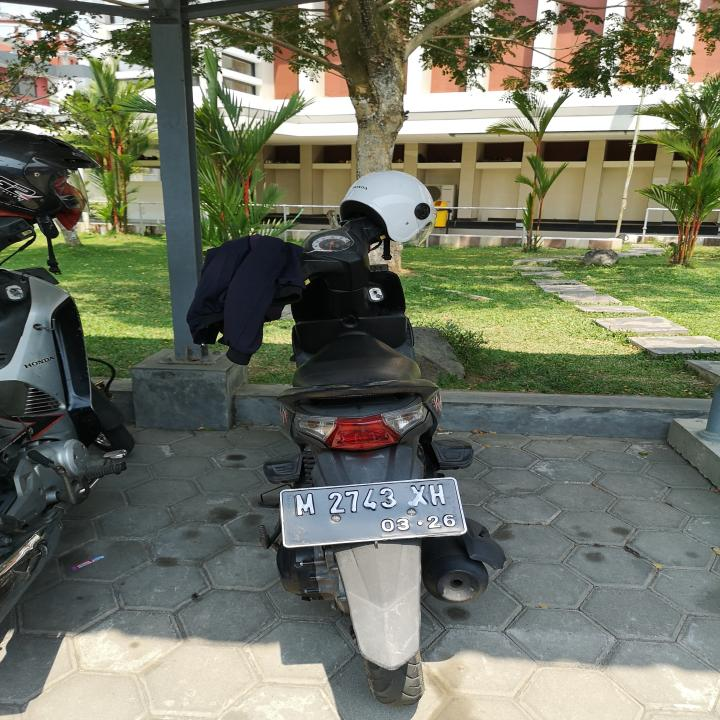plate: (277, 472, 468, 552)
